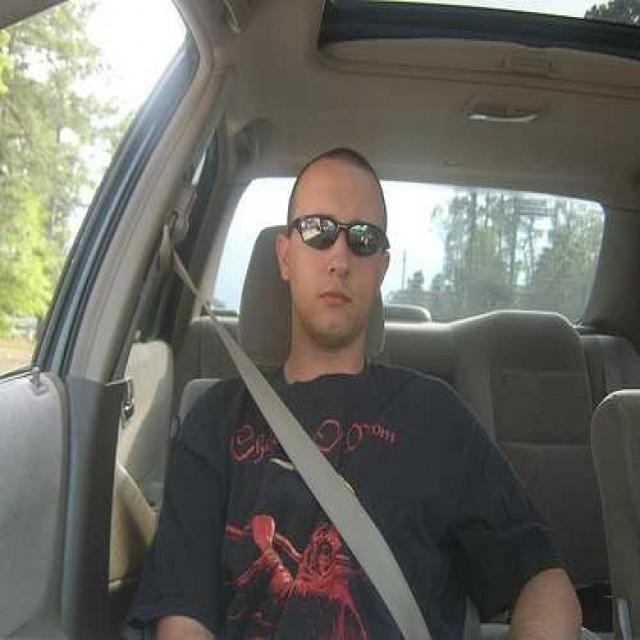seatbelt: (146, 227, 425, 584)
